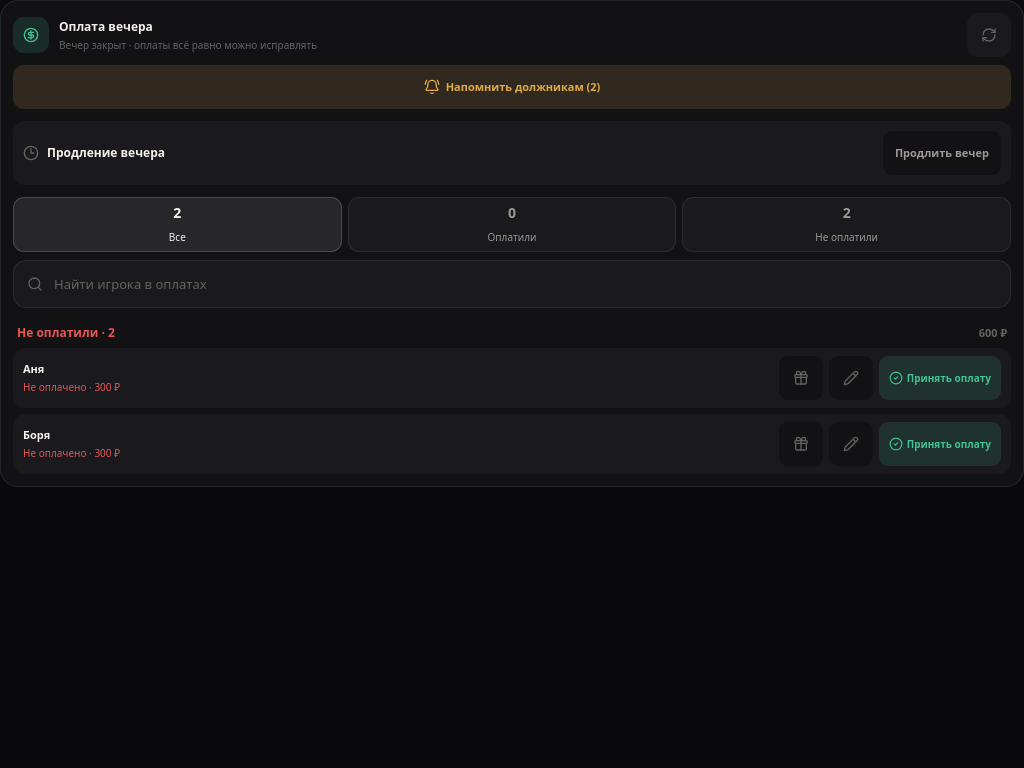
Test case: payments panel: gift an evening and remind the debtors (owner, 2026-10-05) › gifts the evening after a confirmation, as the ordinary waiver, and can take it back
Click the button with test id "gift-evening-a": (801, 378) [779, 356, 823, 400]
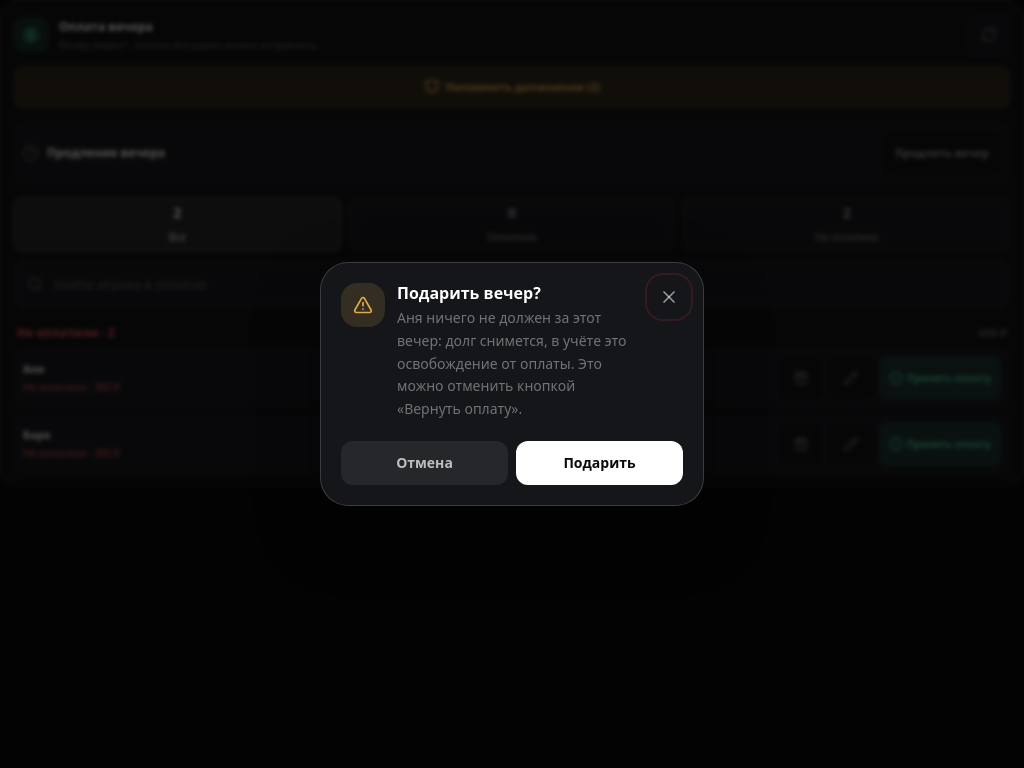
expect the heading "Подарить вечер?" is shown: met, box [397, 282, 541, 304]
Click the button "Подарить": (600, 463) [516, 441, 683, 485]
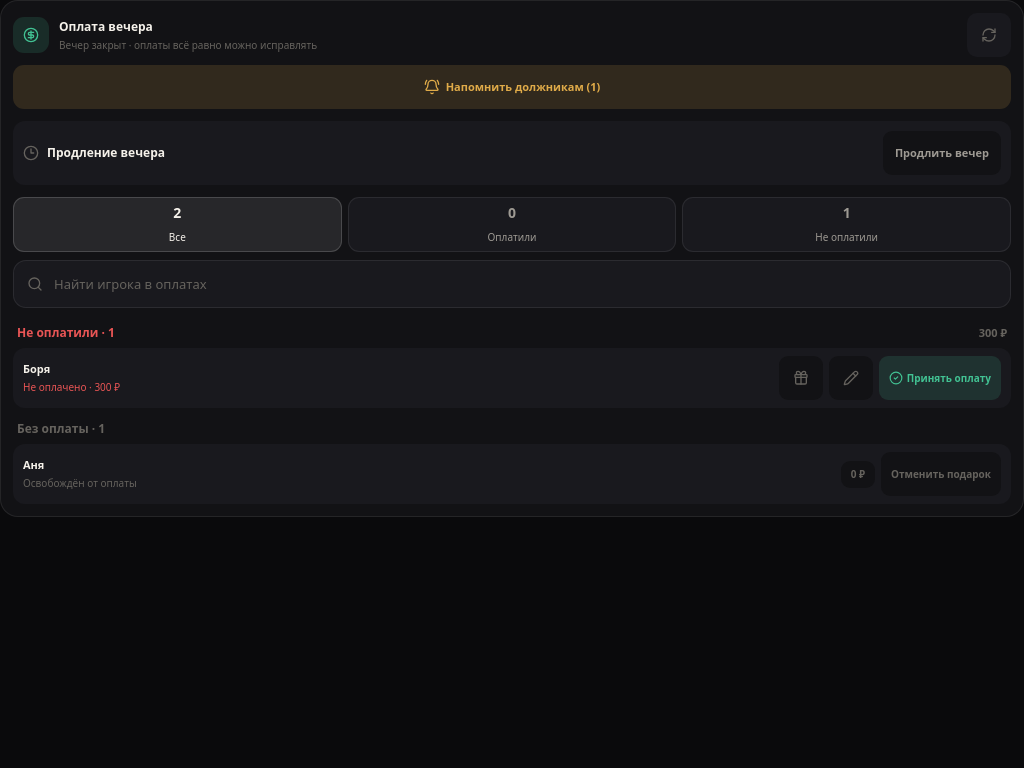
expect the text "Освобождён от оплаты" is shown: met, box [23, 476, 137, 490]
Click the button "Отменить подарок": (941, 474) [881, 452, 1001, 496]
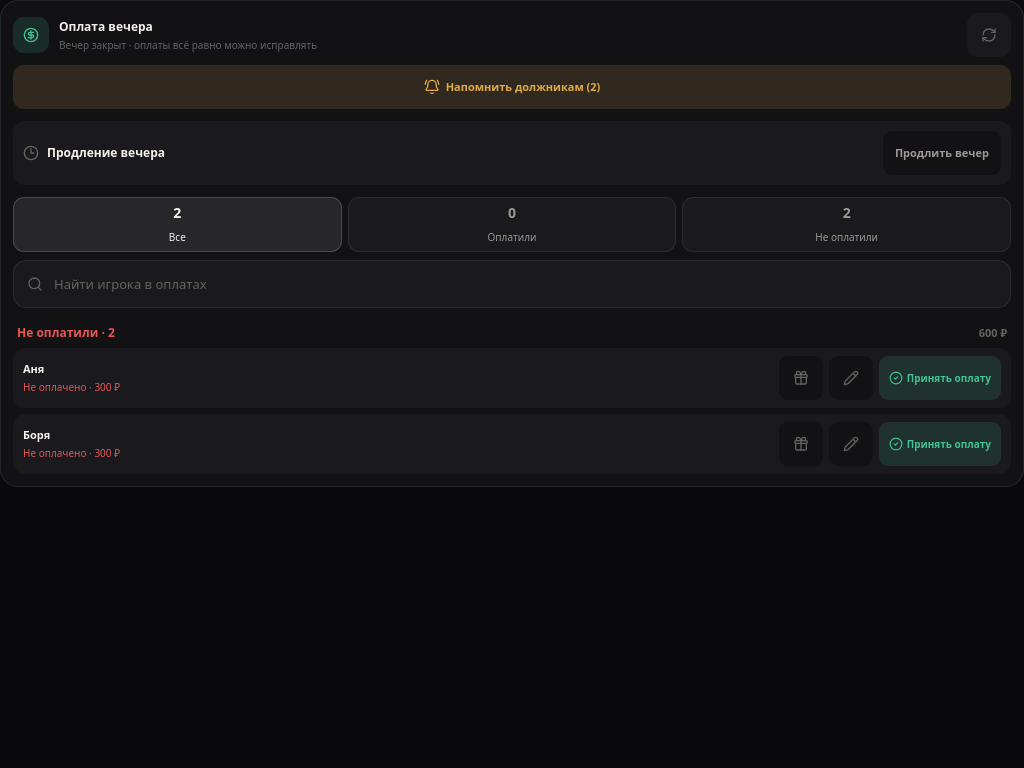
expect the text "Освобождён от оплаты" is gone: met
